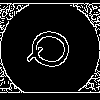Q: (25, 25, 82, 76)
